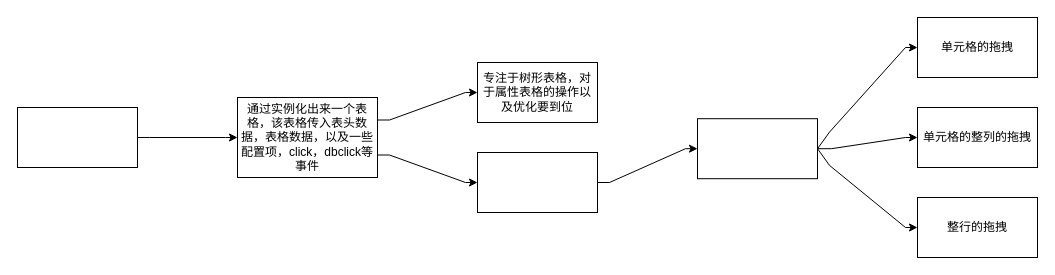
Some shapes in this 1055 by 275 pixel diagram are drawn without their labels. Each missing label, with the centre of its shape:
"使用组件" goes at pixel 77 137.
"功能" goes at pixel 537 182.
"拖拽" goes at pixel 757 148.
